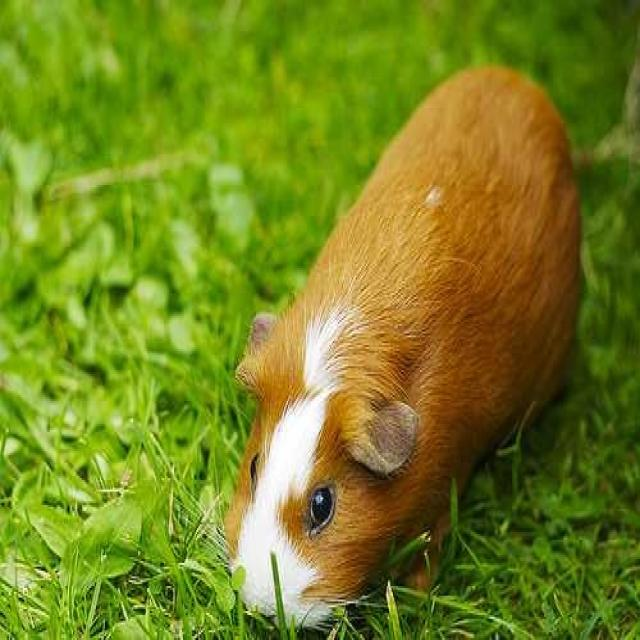guinea pig: (224, 60, 577, 613)
